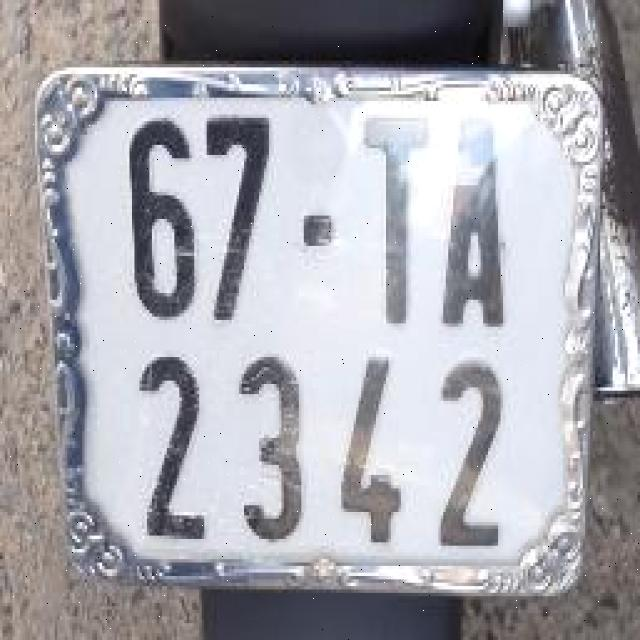2: (122, 345, 214, 554), (431, 348, 515, 560)
3: (222, 347, 311, 549)
4: (333, 347, 422, 549)
6: (115, 104, 202, 327)
7: (201, 101, 275, 337)
A: (436, 101, 508, 344)
T: (349, 102, 433, 338)
